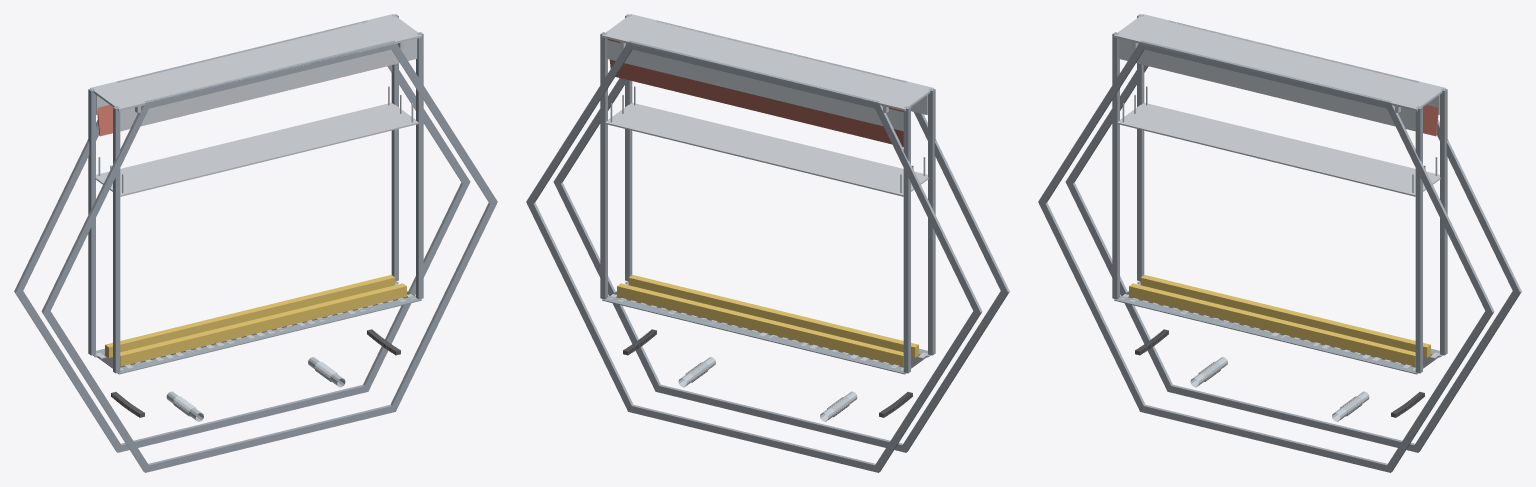
Rendered from coupler_open.glb.
The picture shows the model from 3 angles, left to right: view 1: azimuth 30°, elevation 25°; view 2: azimuth 150°, elevation 25°; view 3: azimuth 330°, elevation 25°; orthographic projection.
Visible parts, largest first — view 1: coupler_open; view 2: coupler_open; view 3: coupler_open.
Part boxes in pixels (x1,y1,x2,y2): coupler_open: [14, 14, 497, 472]; coupler_open: [526, 14, 1009, 472]; coupler_open: [1038, 14, 1521, 472].
Bounding box in the file's own units: 1 × 0.7778 × 0.1111.
